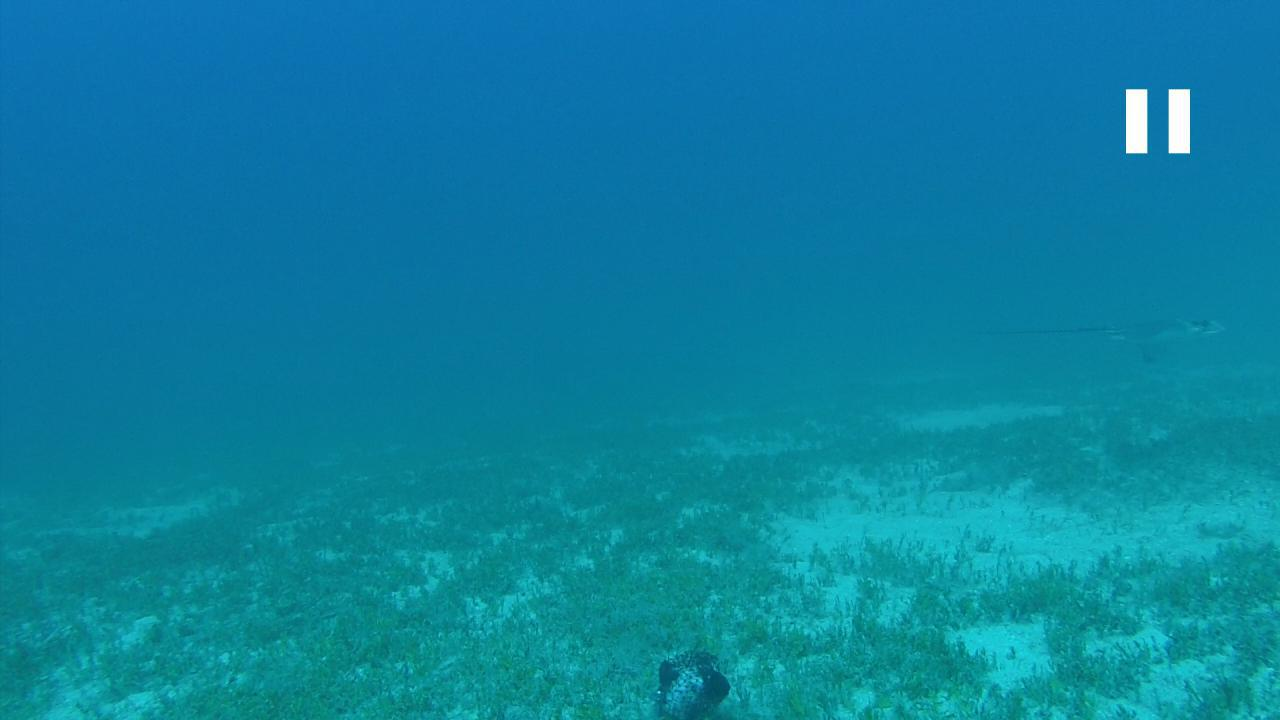dasyatis: (973, 316, 1229, 360)
